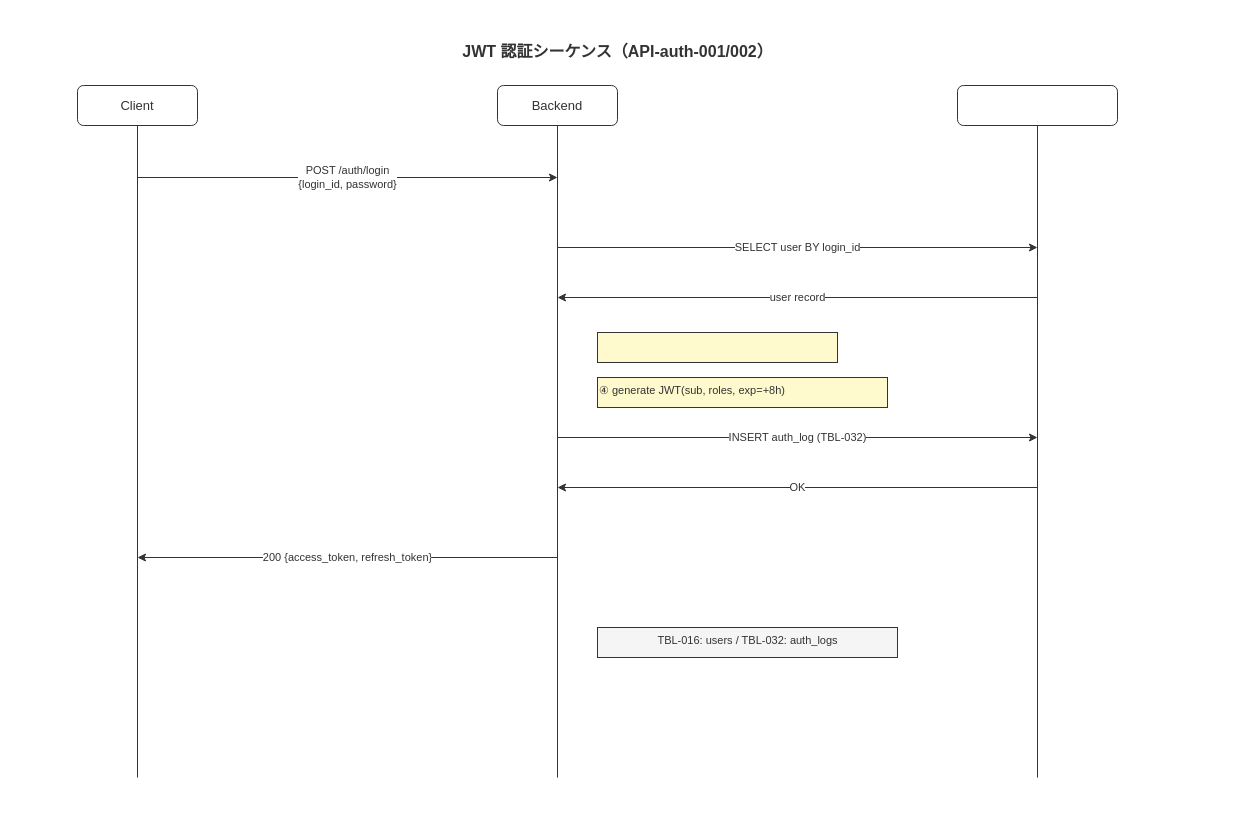
Some shapes in this 1234 by 834 pixel diagram are drawn without their labels. Here are the shapes that lost their labels. From the top down, the centre of each, then its label:
(x=1037, y=105): PostgreSQL
(x=717, y=347): ③ bcrypt verify password
